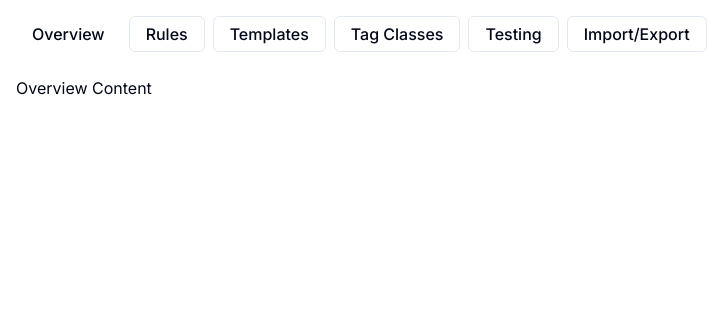
Test case: Dashboard Workflows Integration Tests › Dashboard Navigation › should switch between dashboard tabs
The image size is (724, 331).
Expected: the text "Overview Content" is shown, [16,78,152,98]
# Switch to rules tab
Click the button with test id "nav-rules" at (167, 34), box [129,16,205,52]
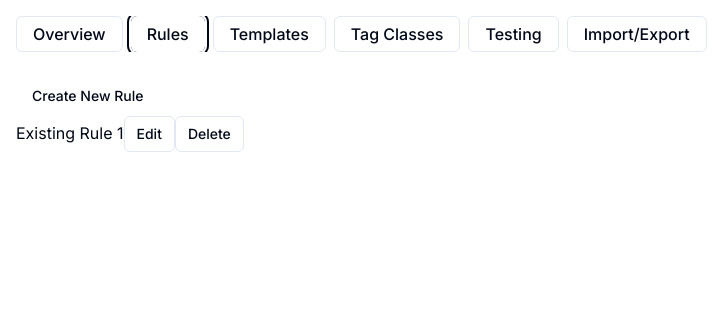
Expected: the element with test id "rules-tab" is shown, [16,76,244,152]
# Switch to testing tab
Click the button with test id "nav-testing" at (514, 34), box [468,16,559,52]
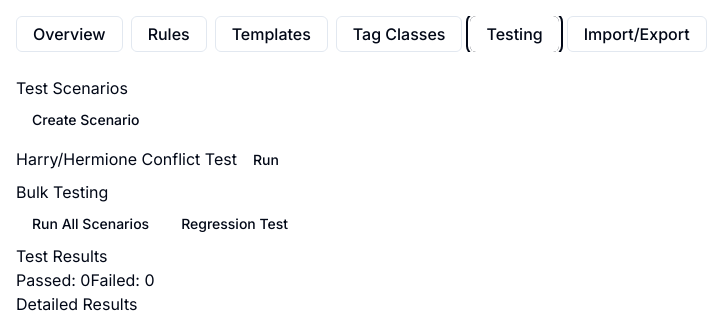
Expected: the element with test id "testing-tab" is shown, [16,78,304,314]
